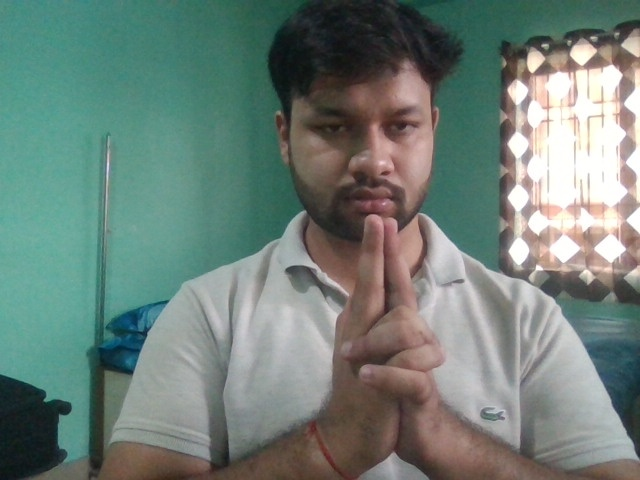1000 Years of Death: (321, 214, 455, 477)
